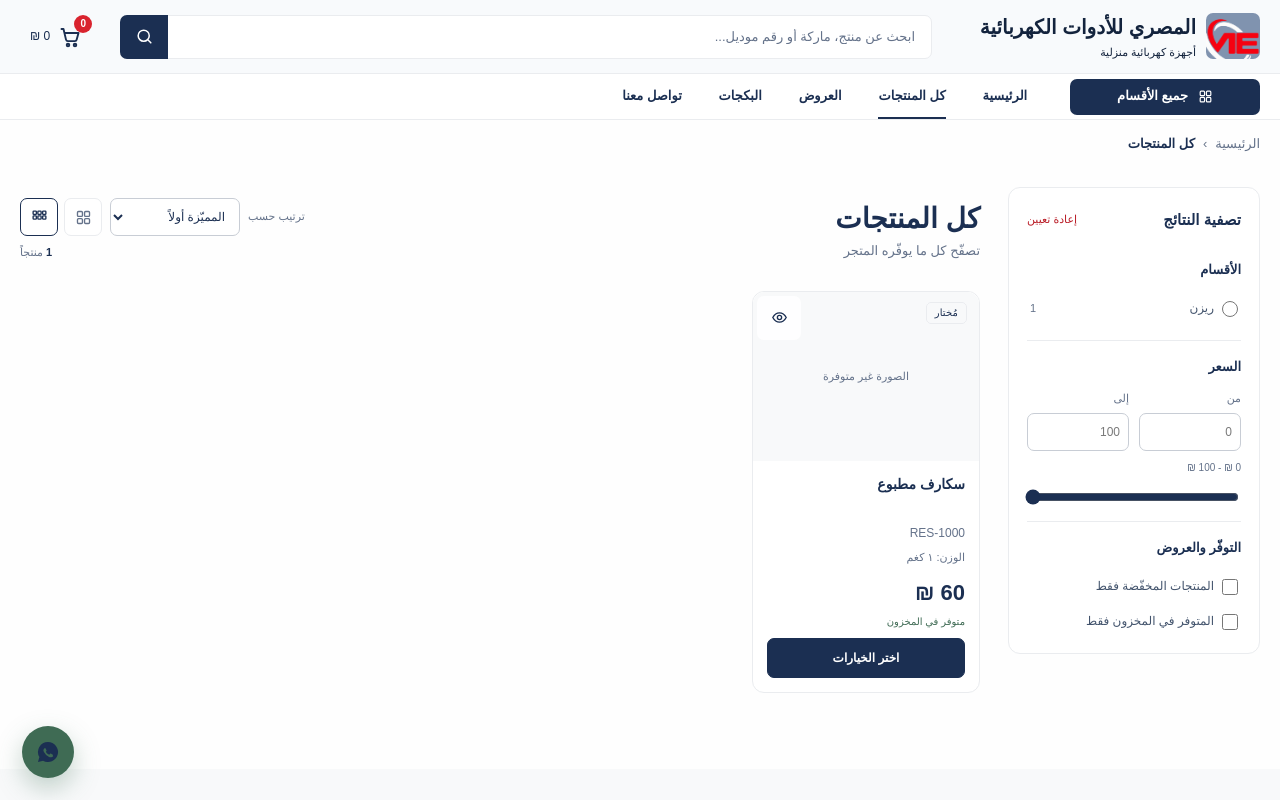
Test case: product card behaviour › sends a product that needs an option to the quick view instead of the cart
Check: the button "أضف إلى العربة" is not shown
Click the button "اختر الخيارات".
click(866, 658)  # box [767, 638, 965, 678]
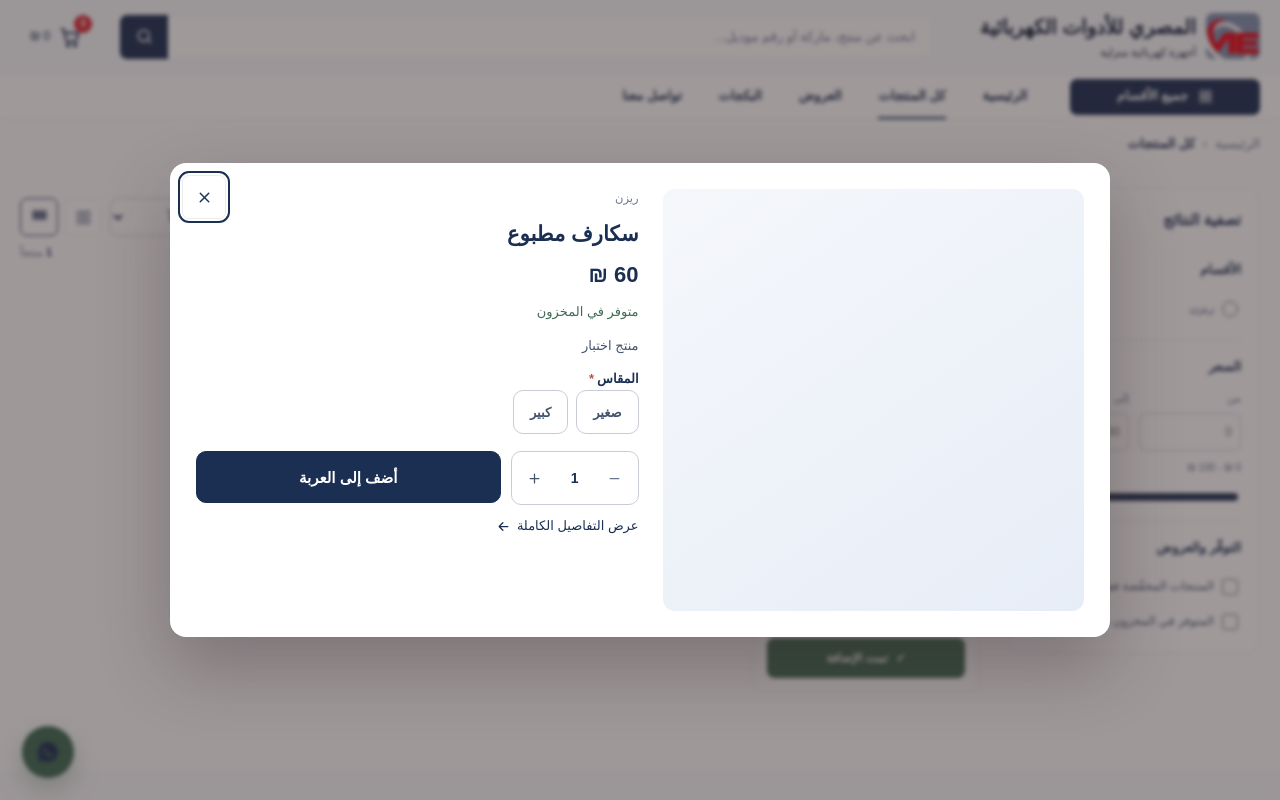
Check: the text "المقاس" is shown, box [597, 371, 638, 386]
